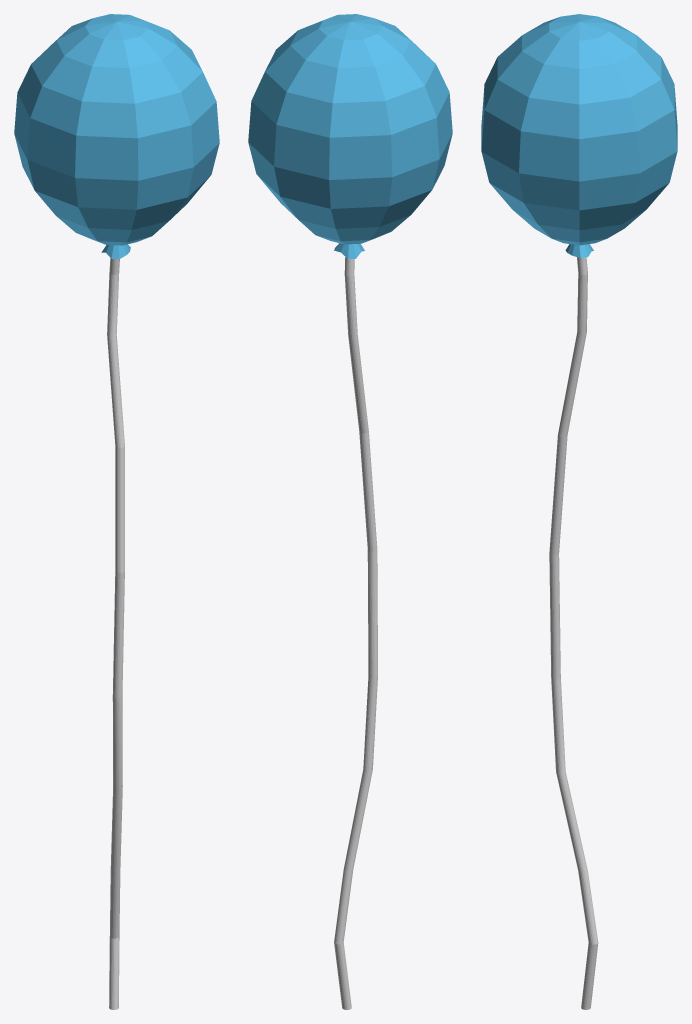
File: baloon2.fbx
The picture shows the model from 3 angles, left to right: view 1: azimuth 30°, elevation 25°; view 2: azimuth 150°, elevation 25°; view 3: azimuth 270°, elevation 25°; orthographic projection.
Parts seen in each view (by area): view 1: string1.001; view 2: string1.001; view 3: string1.001.
Boxes of the visible parts, x1,y1,x2,y2 form: string1.001: [14, 14, 219, 1009]; string1.001: [248, 14, 452, 1009]; string1.001: [481, 14, 677, 1009].
Bounding box in the file's own units: 45.13 × 238 × 42.92.
